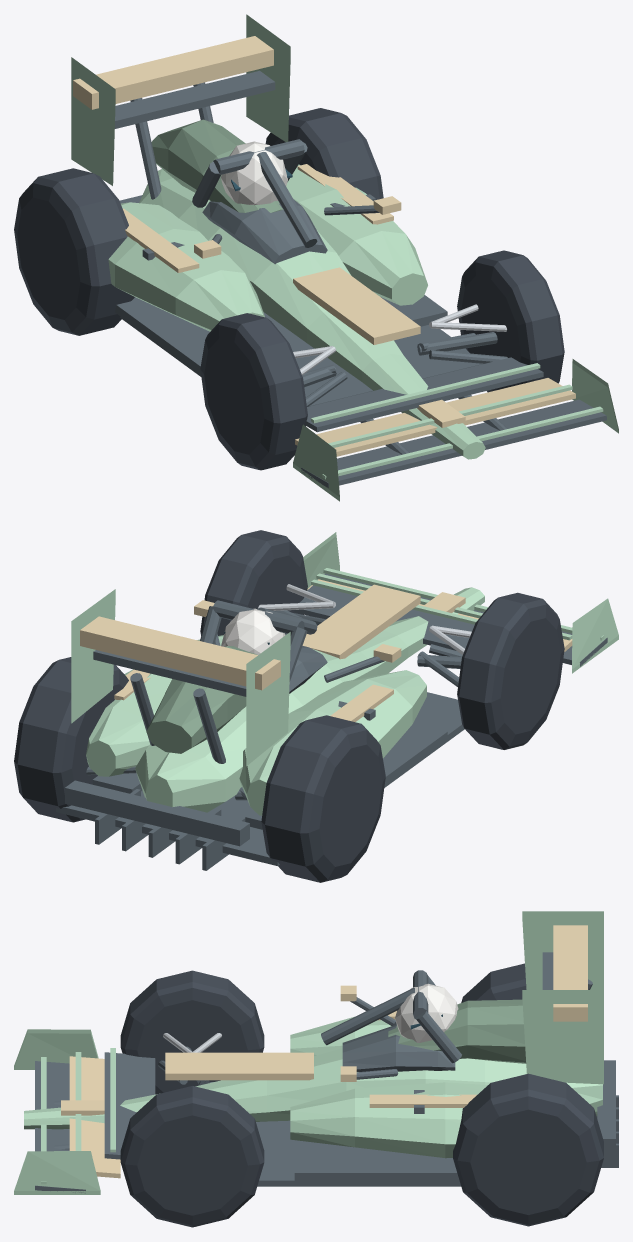
The model's file is jaguar_mobile.glb.
3 views of the same model, one above another, from view 1: azimuth 30°, elevation 25°; view 2: azimuth 150°, elevation 25°; view 3: azimuth 270°, elevation 25° (orthographic). The views are drawn at different scales.
Visible parts, largest first — view 1: BODY_paint, BODY_carbon, BODY_accent, RearLeftWheel_rubber, FrontLeftWheel_rubber, FrontRightWheel_rubber, RearRightWheel_rubber, BODY_paint_dark, BODY_helmet, BODY_metal; view 2: BODY_paint, BODY_carbon, RearLeftWheel_rubber, BODY_accent, FrontLeftWheel_rubber, RearRightWheel_rubber, FrontRightWheel_rubber, BODY_paint_dark, BODY_helmet, BODY_metal; view 3: BODY_paint, BODY_carbon, RearRightWheel_rubber, FrontRightWheel_rubber, BODY_accent, FrontLeftWheel_rubber, BODY_paint_dark, BODY_helmet, RearLeftWheel_rubber.
Part boxes in pixels (box(x1,y1,x2,y2)): BODY_paint: box(71, 14, 618, 501); BODY_carbon: box(114, 70, 606, 487); BODY_accent: box(73, 36, 575, 456); RearLeftWheel_rubber: box(14, 168, 134, 335); FrontLeftWheel_rubber: box(200, 313, 307, 470); FrontRightWheel_rubber: box(457, 250, 564, 392); RearRightWheel_rubber: box(265, 108, 383, 199); BODY_paint_dark: box(151, 119, 283, 212); BODY_helmet: box(221, 141, 287, 205); BODY_metal: box(293, 304, 506, 375); BODY_paint: box(71, 532, 618, 815); BODY_carbon: box(56, 573, 607, 870); RearLeftWheel_rubber: box(261, 715, 385, 882); BODY_accent: box(80, 579, 572, 721); FrontLeftWheel_rubber: box(457, 592, 564, 749); RearRightWheel_rubber: box(14, 657, 128, 822); FrontRightWheel_rubber: box(200, 530, 307, 635); BODY_paint_dark: box(146, 646, 257, 753); BODY_helmet: box(221, 608, 285, 654); BODY_metal: box(258, 584, 471, 654); BODY_paint: box(14, 911, 603, 1194); BODY_carbon: box(35, 952, 618, 1193); RearRightWheel_rubber: box(453, 1073, 603, 1226); FrontRightWheel_rubber: box(120, 1086, 264, 1227); BODY_accent: box(61, 925, 587, 1178); FrontLeftWheel_rubber: box(120, 970, 264, 1094); BODY_paint_dark: box(388, 999, 526, 1063); BODY_helmet: box(395, 983, 458, 1042); RearLeftWheel_rubber: box(461, 963, 526, 1002).
Bounding box in the file's own units: 2.59 × 1.9 × 4.88.
